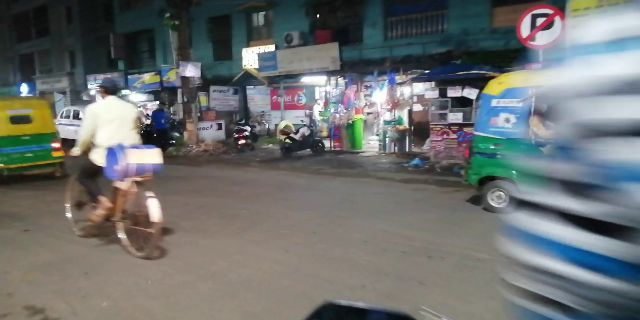Autorickshaw: (468, 64, 563, 216), (1, 94, 65, 185)
Cycle: (66, 77, 174, 259)
